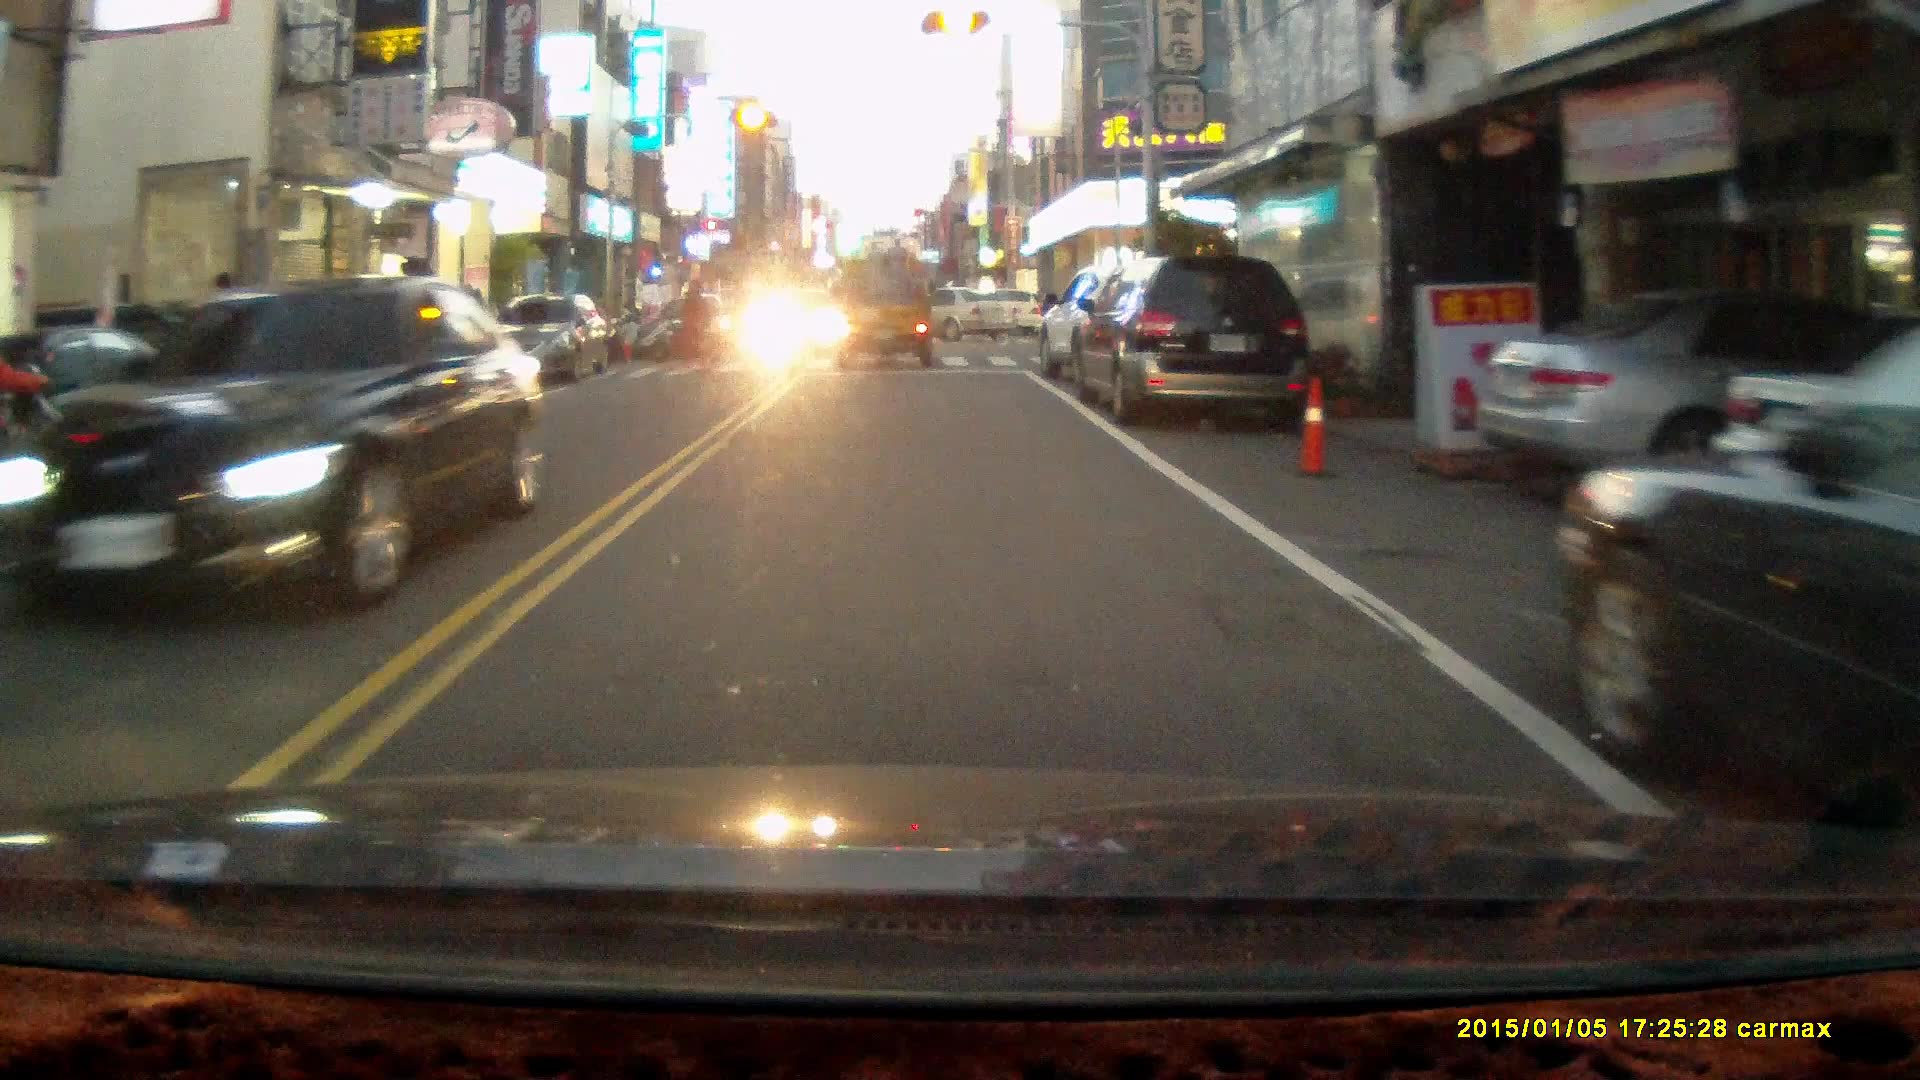pedestrian: (681, 275, 717, 376), (616, 311, 640, 362)
vehicle: (18, 275, 559, 623), (1555, 320, 1920, 821), (1472, 291, 1920, 515), (1070, 251, 1315, 430), (1714, 372, 1920, 531), (1038, 257, 1210, 403), (832, 246, 938, 372), (499, 295, 609, 387), (865, 286, 1012, 343), (652, 298, 742, 361)
